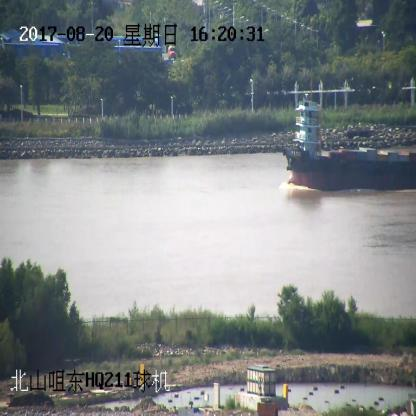Container Ship: (284, 94, 416, 191)
